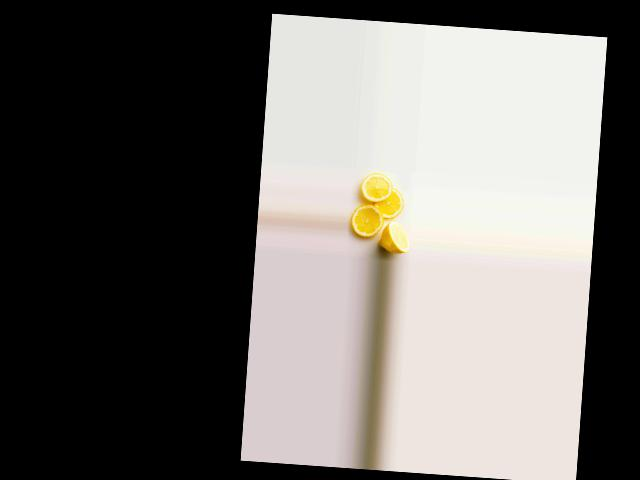lemon: (381, 220, 411, 256)
